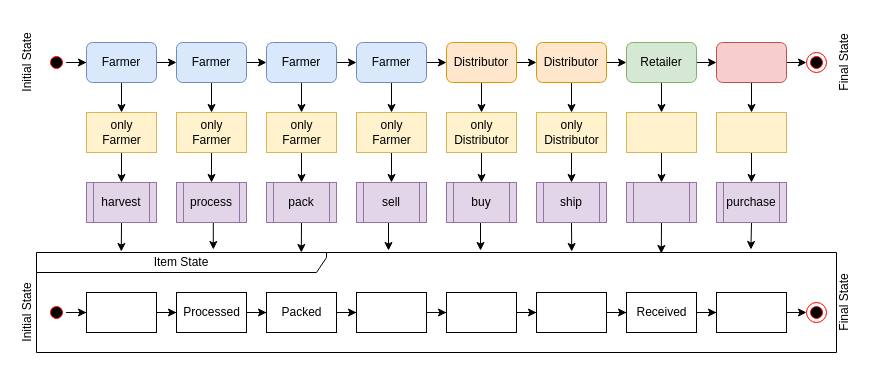
The diagram is 871 pixels wide and 374 high, and some of its shapes have lost their labels. Here are the shapes that lost their labels. From the top down, the box of each, then its label:
(716, 42, 786, 82): Consumer
(626, 112, 696, 152): only Retailer
(716, 112, 786, 152): only Consumer
(626, 182, 696, 222): receive
(86, 292, 156, 332): Harvested
(356, 292, 426, 332): For Sale
(446, 292, 516, 332): Sold
(536, 292, 606, 332): Shipped
(716, 292, 786, 332): Purchased
